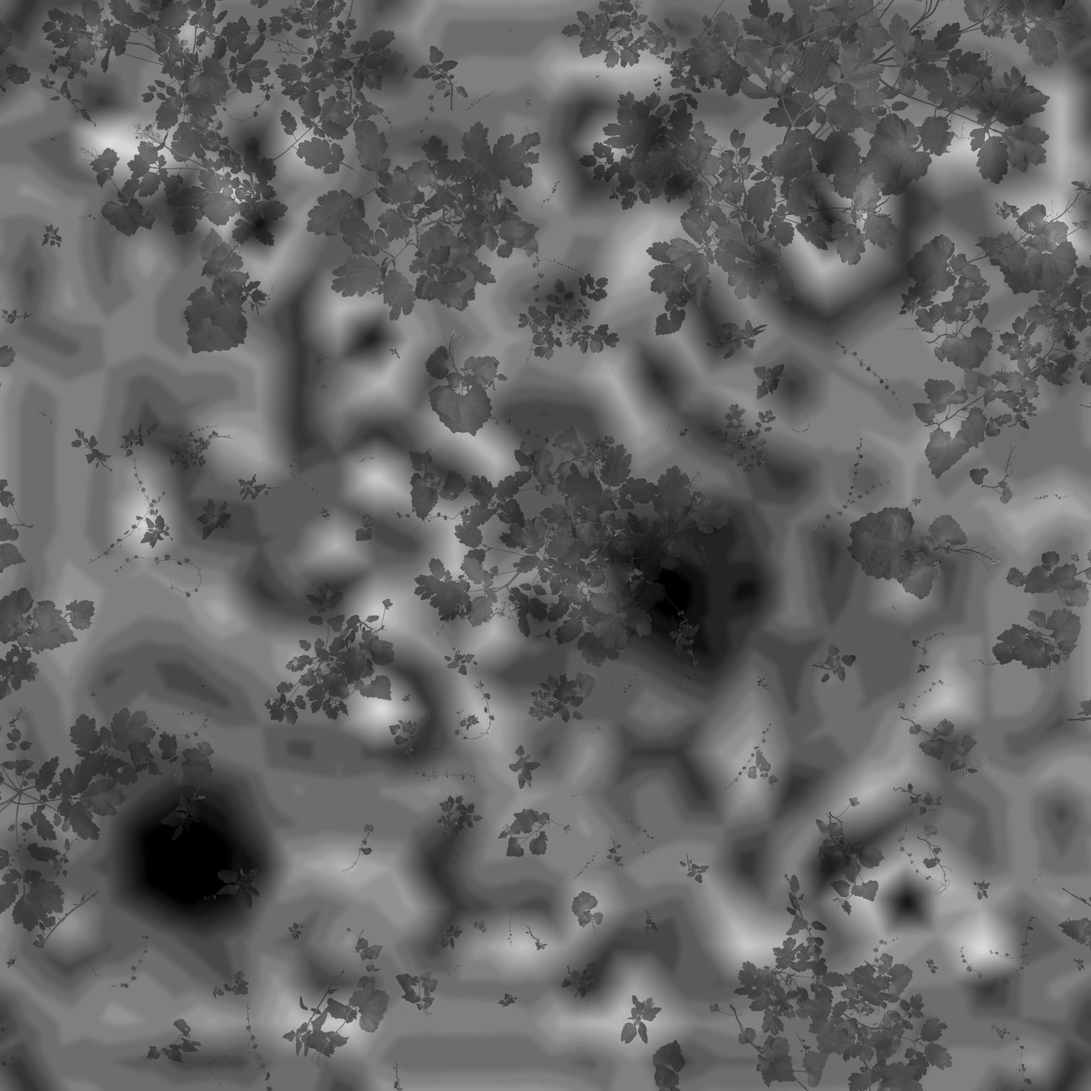landmine: (616, 518, 774, 665), (120, 791, 245, 905)
